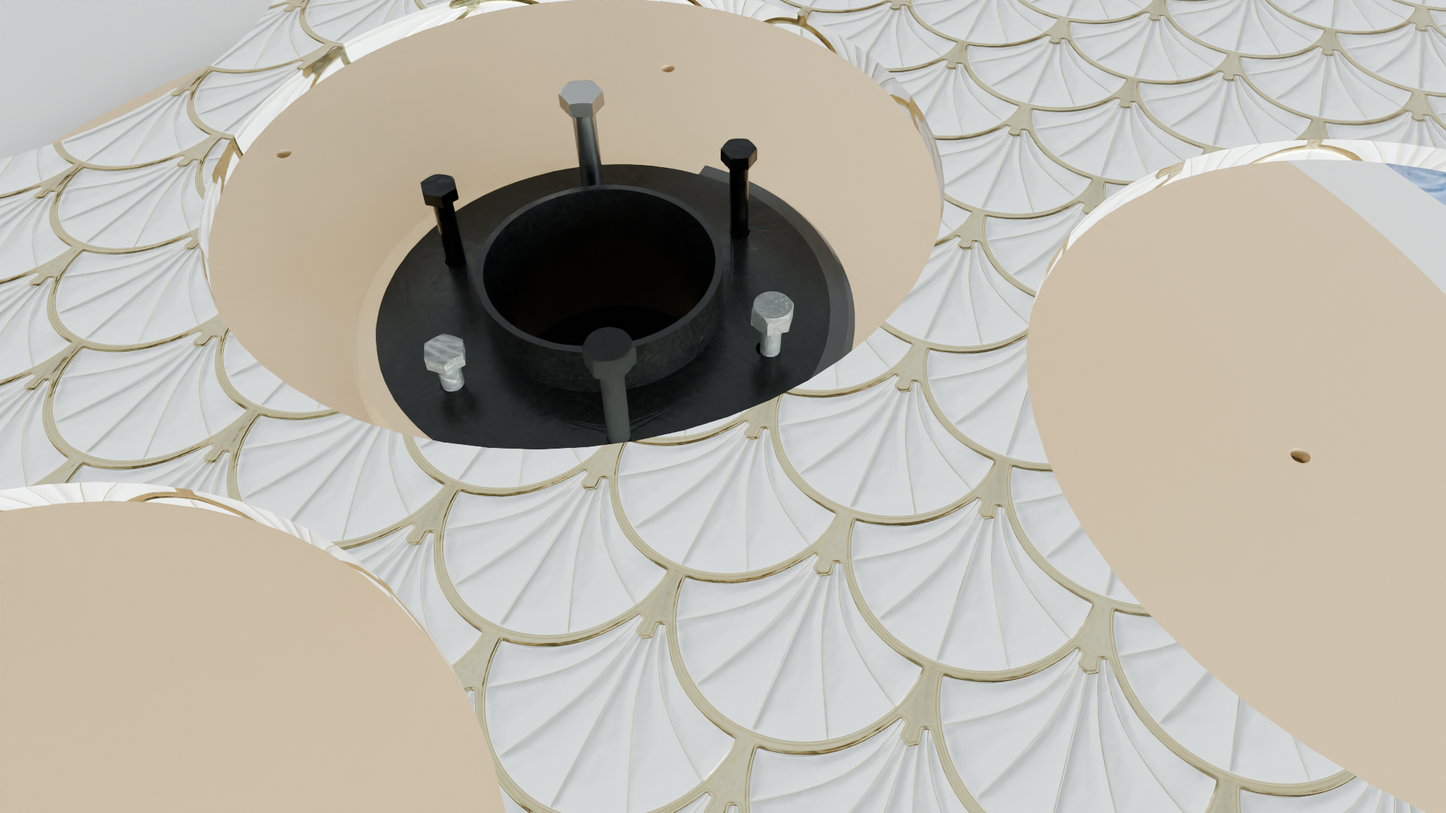bolt: (581, 327, 636, 366), (752, 291, 794, 324), (424, 334, 463, 365), (558, 80, 603, 105), (420, 174, 456, 197), (721, 139, 757, 160)
